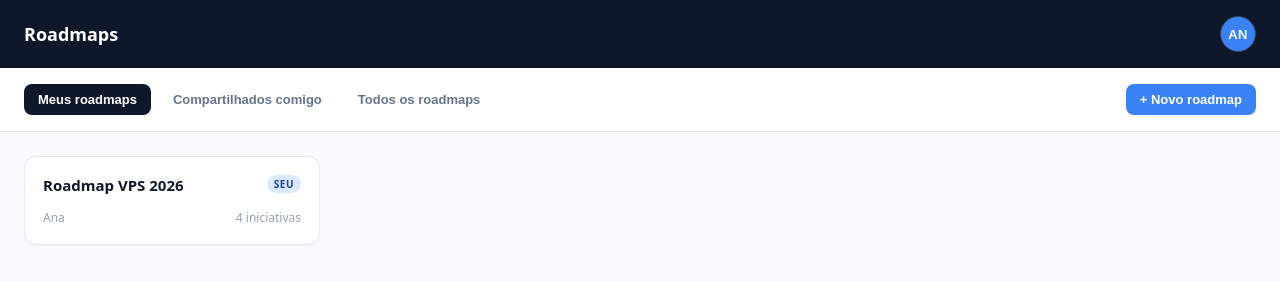
RoadmapList › mostra "Compartilhados comigo" ao trocar de aba
This screenshot has width=1280, height=282.
Click the button "Compartilhados comigo": click(247, 100) [159,84,336,115]
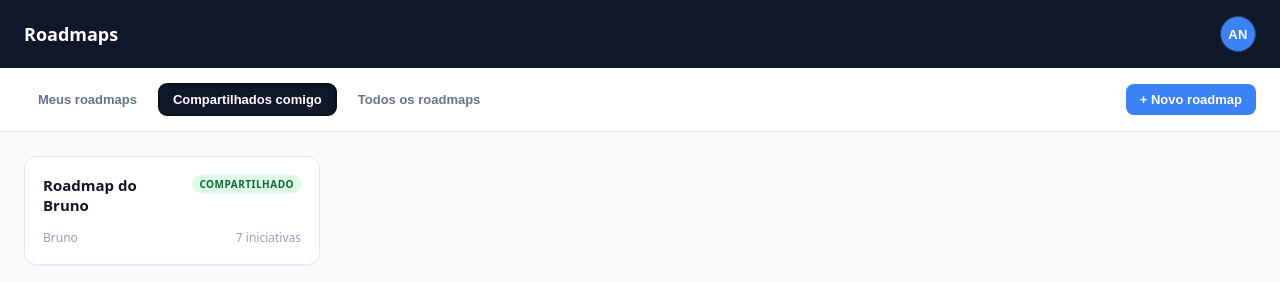
Expected: the text "Roadmap do Bruno" is shown, [43,175,137,215]
